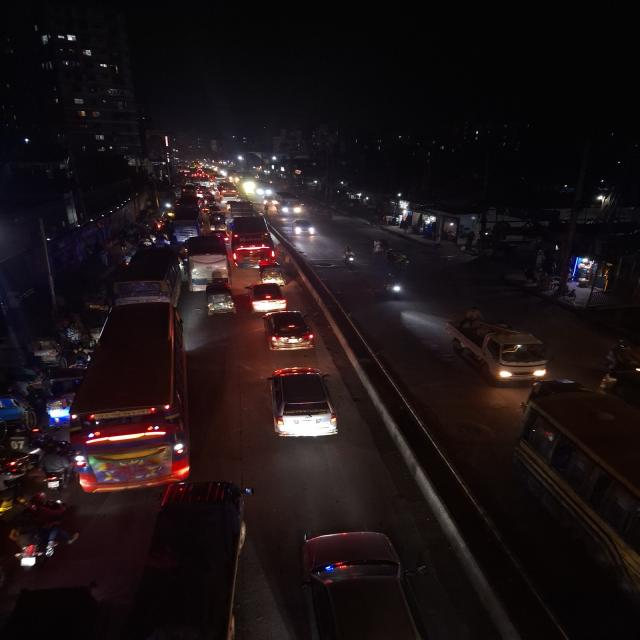bus: (512, 387, 640, 636), (73, 299, 192, 496), (111, 248, 184, 312), (182, 234, 230, 292), (228, 214, 275, 268), (169, 198, 204, 242), (276, 193, 305, 217), (217, 184, 241, 200)
car: (290, 526, 431, 640), (442, 306, 556, 384), (263, 365, 343, 445), (260, 308, 318, 353), (244, 281, 288, 312), (292, 218, 317, 238)
cng: (0, 580, 114, 640), (0, 389, 32, 435), (203, 281, 236, 322), (258, 261, 290, 287), (208, 211, 227, 233)
motorcycle: (6, 517, 71, 573), (0, 437, 42, 485), (38, 444, 72, 494), (600, 338, 640, 376), (0, 477, 23, 520), (381, 271, 410, 304), (385, 249, 415, 271), (339, 245, 360, 272)
pickup_van: (442, 305, 555, 385)
rickshaw: (38, 376, 76, 427), (385, 248, 414, 272)
